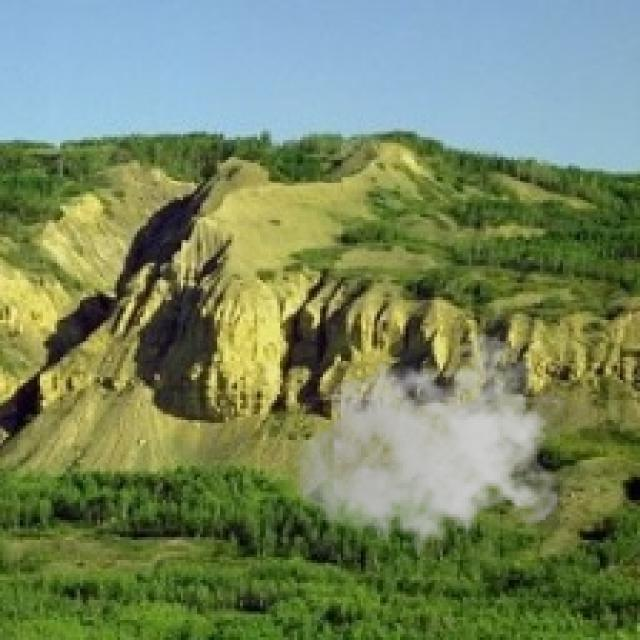smoke: (294, 334, 566, 566)
